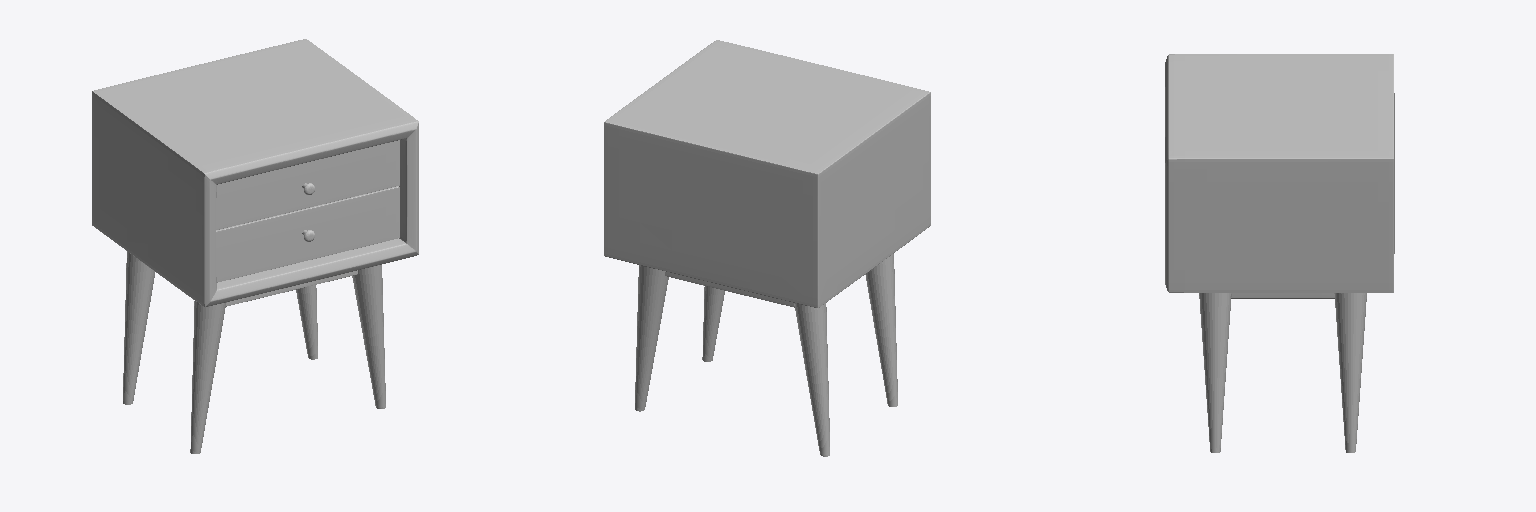
The model's file is Jimibox.obj.
The picture shows the model from 3 angles: view 1: azimuth 30°, elevation 25°; view 2: azimuth 150°, elevation 25°; view 3: azimuth 270°, elevation 25°; orthographic projection.
Parts seen in each view (by area): view 1: Cube_Cube.001, Cube.002_Cube.003, Cube.001_Cube.002, Cylinder, Cylinder.002, Cylinder.001, Cylinder.003, Cube.006_Cube.008; view 2: Cube_Cube.001, Cylinder.002, Cylinder.003, Cylinder, Cylinder.001, Cube.004_Cube.010; view 3: Cube_Cube.001, Cylinder.001, Cylinder.003, Cube.003_Cube.006.
Part boxes in pixels (left/top/right/bottom): Cube_Cube.001: left=92, top=39, right=418, bottom=306; Cube.002_Cube.003: left=216, top=186, right=399, bottom=282; Cube.001_Cube.002: left=216, top=140, right=399, bottom=229; Cylinder: left=190, top=301, right=226, bottom=453; Cylinder.002: left=123, top=251, right=154, bottom=404; Cylinder.001: left=352, top=265, right=385, bottom=408; Cylinder.003: left=296, top=285, right=317, bottom=359; Cube.006_Cube.008: left=226, top=270, right=357, bottom=306; Cube_Cube.001: left=604, top=40, right=930, bottom=307; Cylinder.002: left=794, top=303, right=829, bottom=456; Cylinder.003: left=635, top=265, right=668, bottom=411; Cylinder: left=865, top=254, right=897, bottom=406; Cylinder.001: left=702, top=286, right=724, bottom=361; Cube.004_Cube.010: left=665, top=272, right=794, bottom=307; Cube_Cube.001: left=1165, top=54, right=1394, bottom=292; Cylinder.001: left=1199, top=293, right=1231, bottom=452; Cylinder.003: left=1334, top=293, right=1366, bottom=452; Cube.003_Cube.006: left=1231, top=293, right=1334, bottom=298.
Bounding box in the file's own units: 0.3858 × 0.5135 × 0.3555.